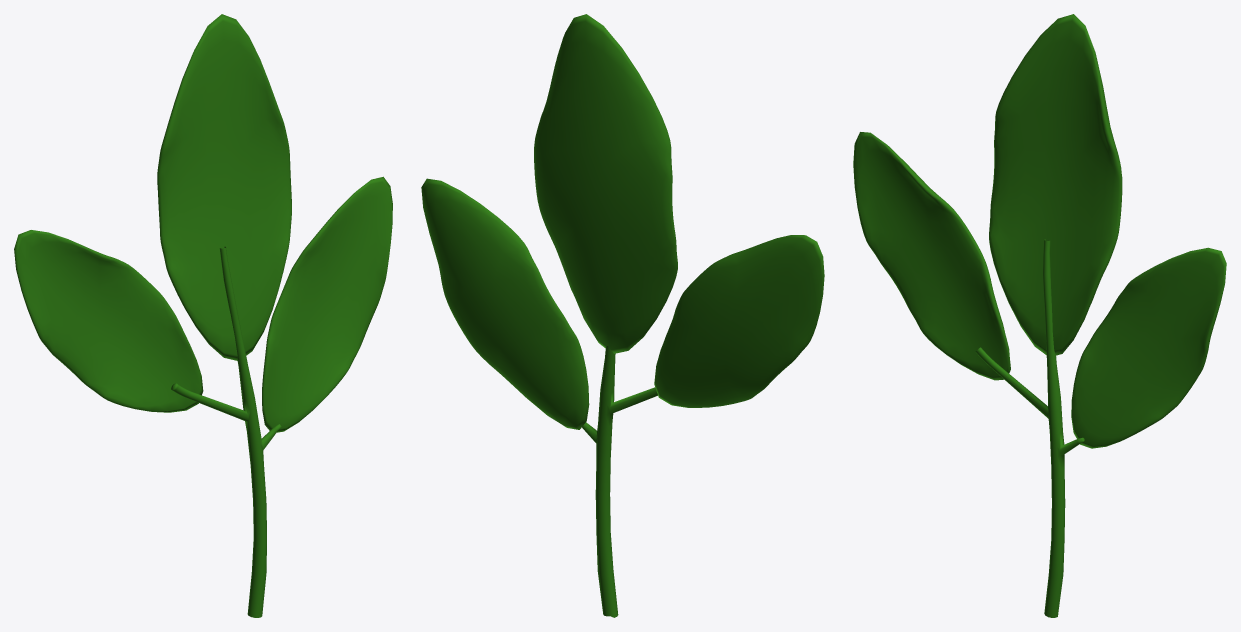
Rendered from daunkehidupan[1].fbx.
3 views of the same model, side by side, from view 1: azimuth 30°, elevation 25°; view 2: azimuth 150°, elevation 25°; view 3: azimuth 330°, elevation 25° (orthographic). The views are drawn at different scales.
Parts seen in each view (by area): view 1: Daun; view 2: Daun; view 3: Daun.
Boxes of the visible parts, box(x1,y1,x2,y2) form: Daun: box(14, 14, 392, 617); Daun: box(421, 14, 824, 617); Daun: box(853, 14, 1226, 617).
Size of the model in its own units: 37.21 by 55.18 by 5.64.
